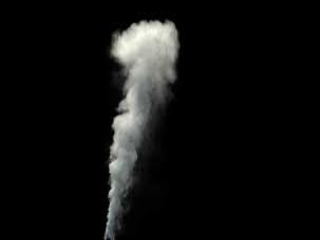smoke: (102, 12, 180, 240)
